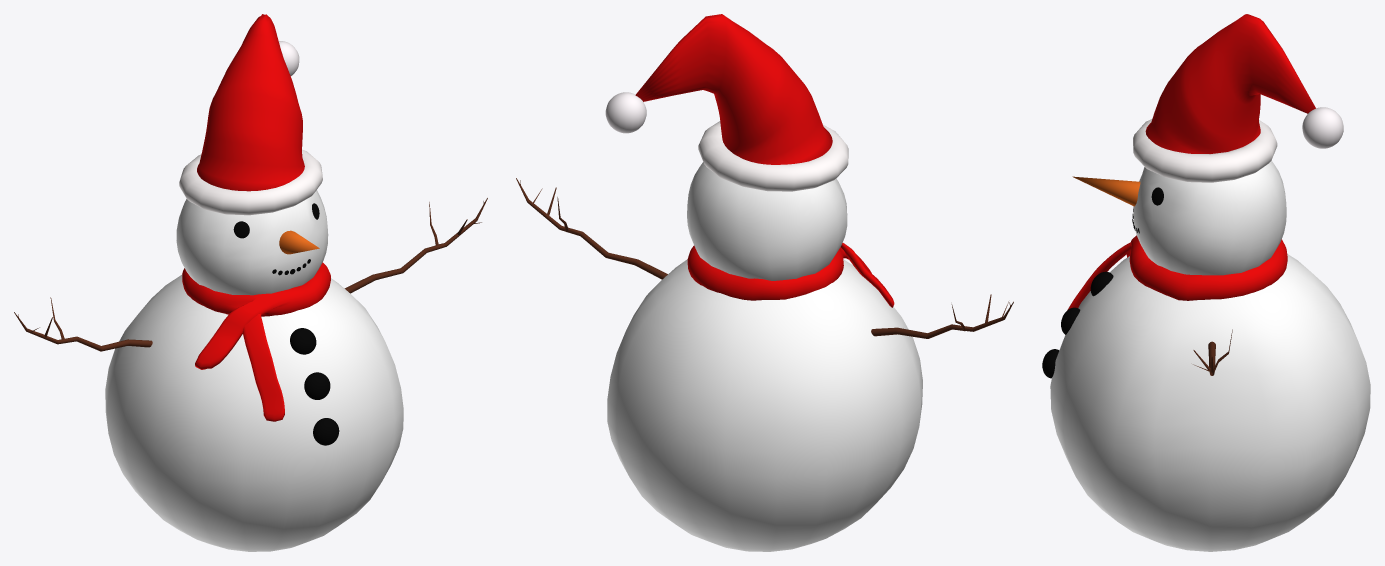
File: snowman.fbx
3 views of the same model, side by side, from view 1: azimuth 30°, elevation 25°; view 2: azimuth 150°, elevation 25°; view 3: azimuth 270°, elevation 25° (orthographic). The views are drawn at different scales.
Parts seen in each view (by area): view 1: snowman; view 2: snowman; view 3: snowman.
Boxes of the visible parts, left/top/right/bottom form: snowman: left=14, top=14, right=487, bottom=551; snowman: left=516, top=14, right=1013, bottom=551; snowman: left=1042, top=14, right=1370, bottom=551.
Bounding box in the file's own units: 504 × 510 × 284.
